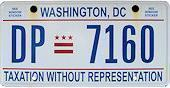placa de veiculo: (4, 1, 162, 87)
